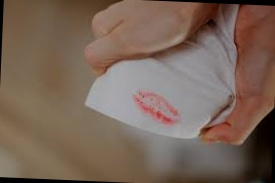lipstick: (130, 83, 184, 128)
